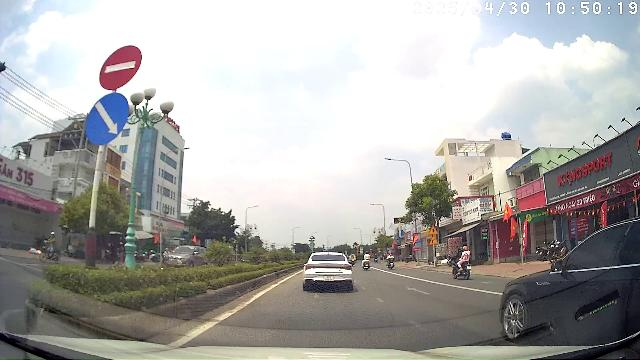102-cam-di-nguoc-chieu: (98, 45, 142, 90)
302a-huong-phai-di-vong-chuong-ngai-vat-1: (85, 92, 130, 146)
